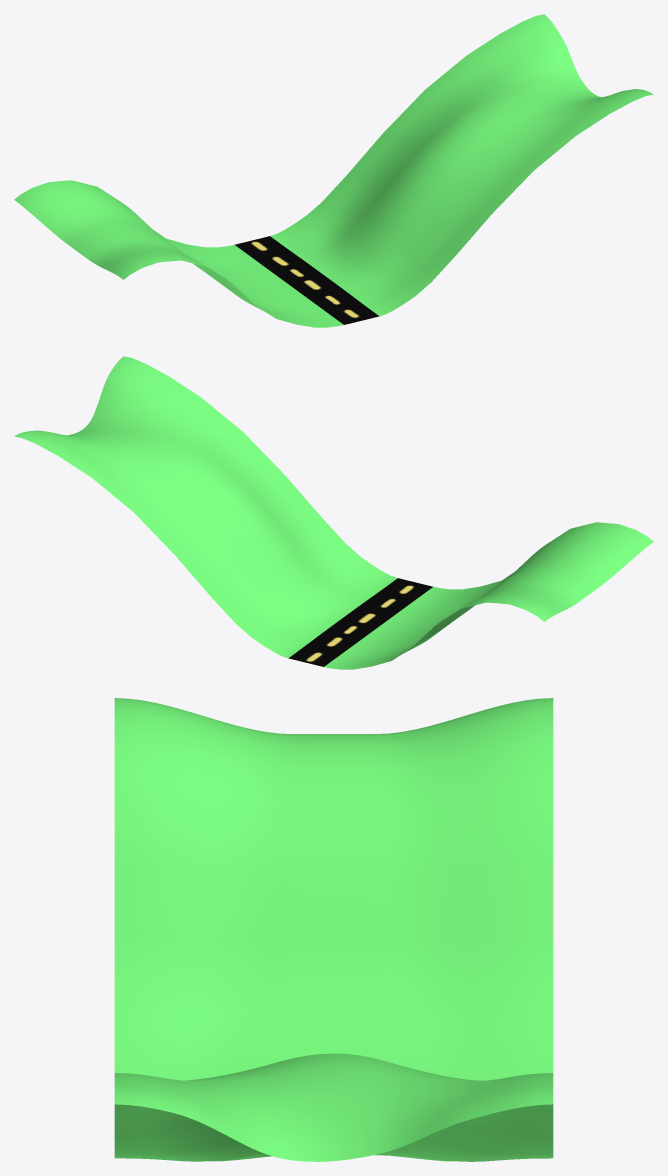
File: terrain.glb
The picture shows the model from 3 angles, top to bottom: view 1: azimuth 30°, elevation 25°; view 2: azimuth 150°, elevation 25°; view 3: azimuth 270°, elevation 25°; orthographic projection. The views are drawn at different scales.
Parts seen in each view (by area): view 1: Plane; view 2: Plane; view 3: Plane.
Part boxes in pixels (x1,y1,x2,y2): Plane: [14, 14, 653, 327]; Plane: [14, 356, 653, 669]; Plane: [114, 698, 553, 1161].
Size of the model in its own units: 55.84 by 15.63 by 20.
Materials: 1 (1 with a texture image).
